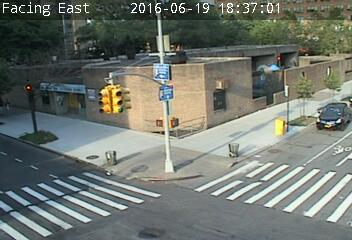neg: (182, 153, 193, 168), (339, 114, 350, 128), (334, 143, 345, 157)
